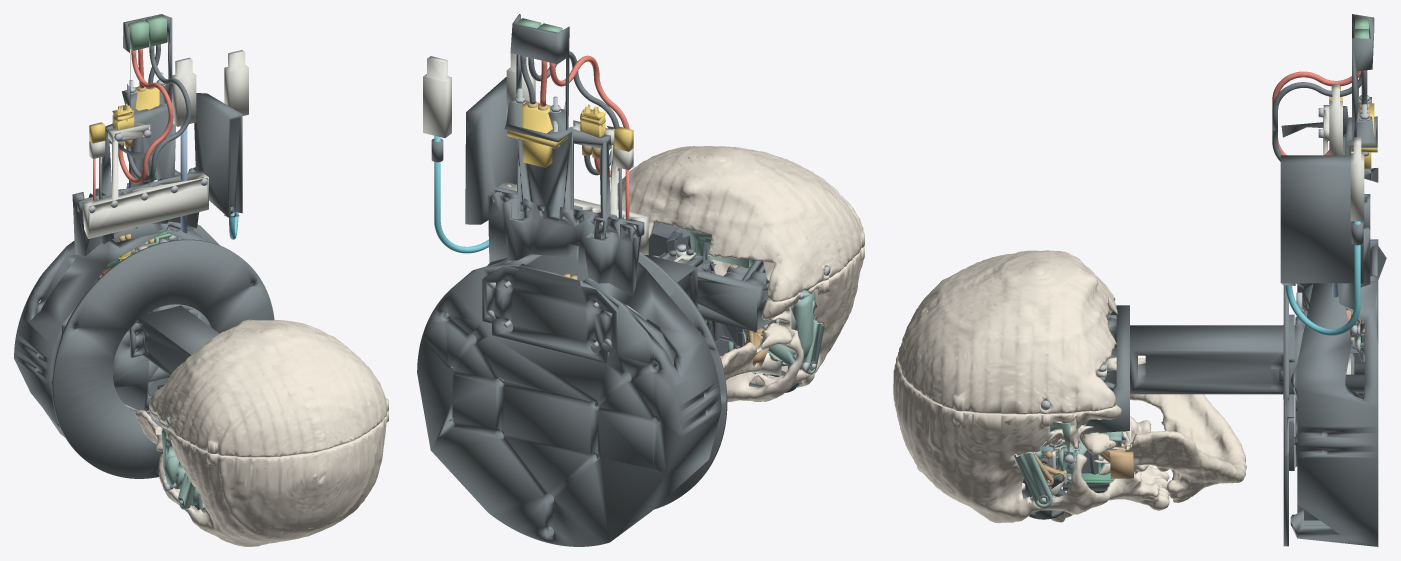
Rendered from assembly.glb.
3 views of the same model, side by side, from view 1: azimuth 30°, elevation 25°; view 2: azimuth 150°, elevation 25°; view 3: azimuth 270°, elevation 25° (orthographic). The views are drawn at different scales.
Visible parts, largest first — view 1: Part074, Part002, Part073, CableSaddle, Part000, CableGate, Part010, Part007, CameraUSB, ControlUSB, A4W7, A4W6 (+7 smaller); view 2: Part000, Part074, CableSaddle, HubHolder, Part073, Part002, Part011, CameraUSB, Jaw_30_moving_jaw, CableGate, Part019, A4XT60ExternalSocket (+9 smaller); view 3: Part074, Part000, Part073, CableSaddle, Part010, Jaw_30_moving_jaw, Part011, Part002, RearLead3_1, CameraUSB, Part027, ControlUSB (+4 smaller).
Boxes of the visible parts, left/top/right/bottom form: Part074: left=149, top=319, right=388, bottom=456; Part002: left=51, top=239, right=274, bottom=478; Part073: left=149, top=406, right=388, bottom=546; CableSaddle: left=72, top=14, right=242, bottom=256; Part000: left=14, top=222, right=252, bottom=437; CableGate: left=82, top=124, right=208, bottom=238; Part010: left=130, top=305, right=219, bottom=375; Part007: left=113, top=304, right=210, bottom=411; CameraUSB: left=224, top=50, right=248, bottom=115; ControlUSB: left=171, top=57, right=196, bottom=126; A4W7: left=126, top=45, right=191, bottom=181; A4W6: left=118, top=50, right=173, bottom=183; Part000: left=417, top=254, right=721, bottom=546; Part074: left=617, top=146, right=864, bottom=301; CableSaddle: left=465, top=14, right=644, bottom=296; HubHolder: left=482, top=264, right=618, bottom=363; Part073: left=711, top=246, right=864, bottom=402; Part002: left=487, top=254, right=727, bottom=509; Part011: left=660, top=249, right=776, bottom=331; CameraUSB: left=423, top=56, right=451, bottom=137; Jaw_30_moving_jaw: left=721, top=322, right=791, bottom=380; CableGate: left=499, top=120, right=648, bottom=255; Part019: left=749, top=259, right=817, bottom=362; A4XT60ExternalSocket: left=507, top=101, right=568, bottom=147; Part074: left=898, top=250, right=1117, bottom=414; Part000: left=1290, top=239, right=1378, bottom=546; Part073: left=893, top=355, right=1169, bottom=523; CableSaddle: left=1280, top=14, right=1378, bottom=309; Part010: left=1130, top=325, right=1295, bottom=399; Jaw_30_moving_jaw: left=1083, top=357, right=1246, bottom=502; Part011: left=1081, top=305, right=1129, bottom=434; Part002: left=1283, top=285, right=1294, bottom=546; RearLead3_1: left=1285, top=221, right=1360, bottom=335; CameraUSB: left=1350, top=137, right=1364, bottom=221; Part027: left=1014, top=453, right=1052, bottom=508; ControlUSB: left=1329, top=84, right=1342, bottom=155.
Bounding box in the file's own units: 187 × 344 × 298.
